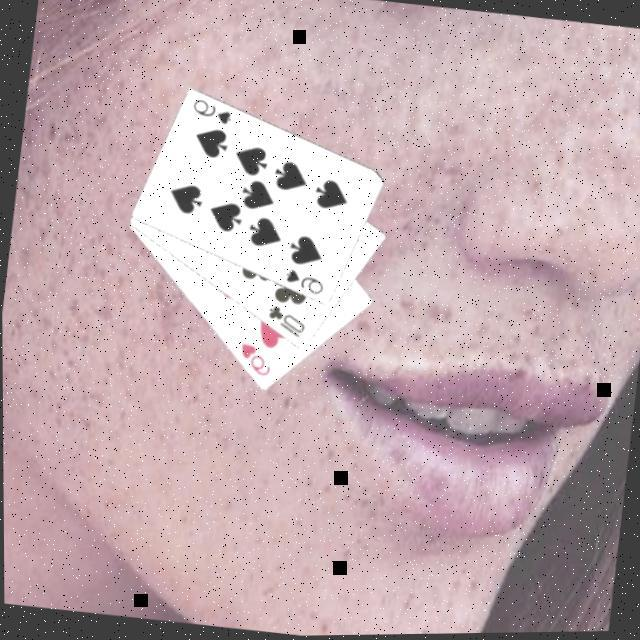10C: (263, 299, 311, 341)
6H: (234, 338, 276, 378)
9S: (188, 94, 237, 129), (280, 263, 328, 298)
